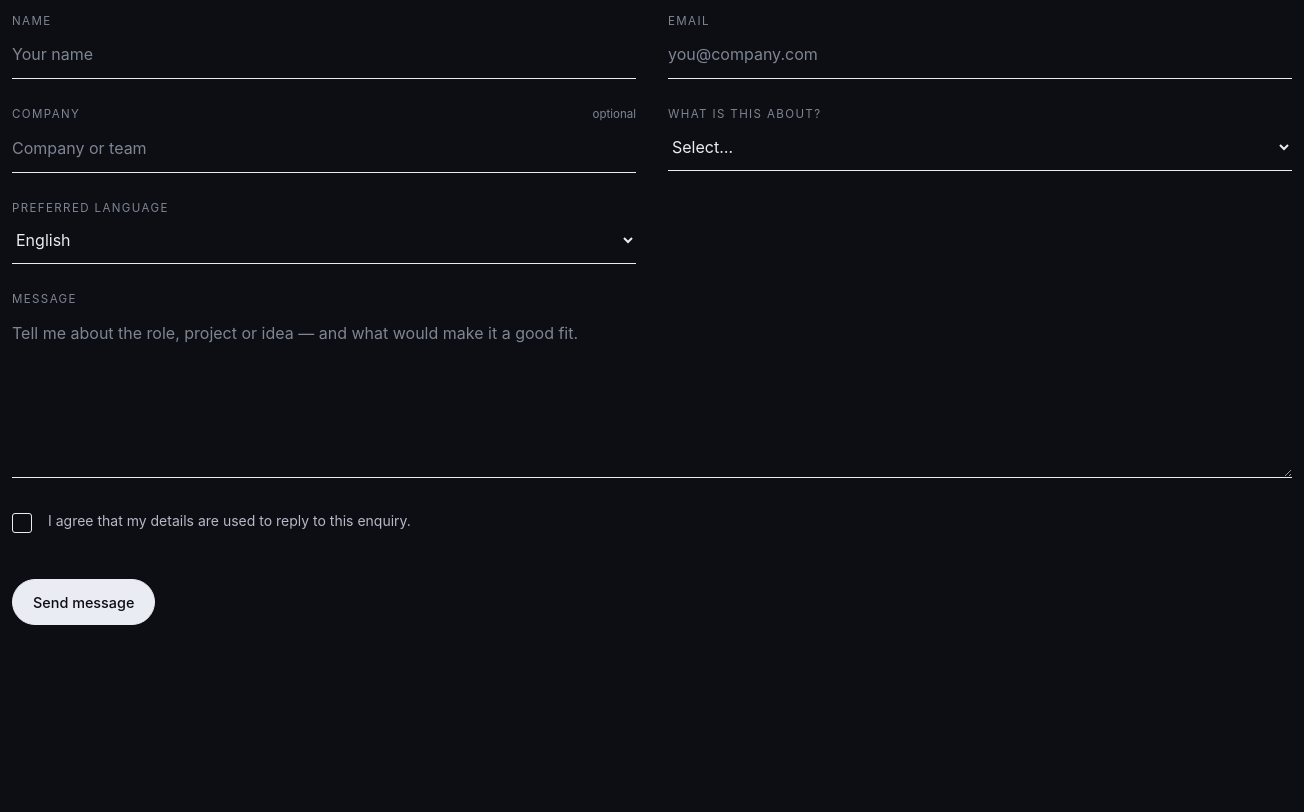
it: ContactForm › mentions the confirmation email only when one was sent
In the field labelled "Name": (324, 55) [12, 30, 636, 79], type "Ada Lovelace"
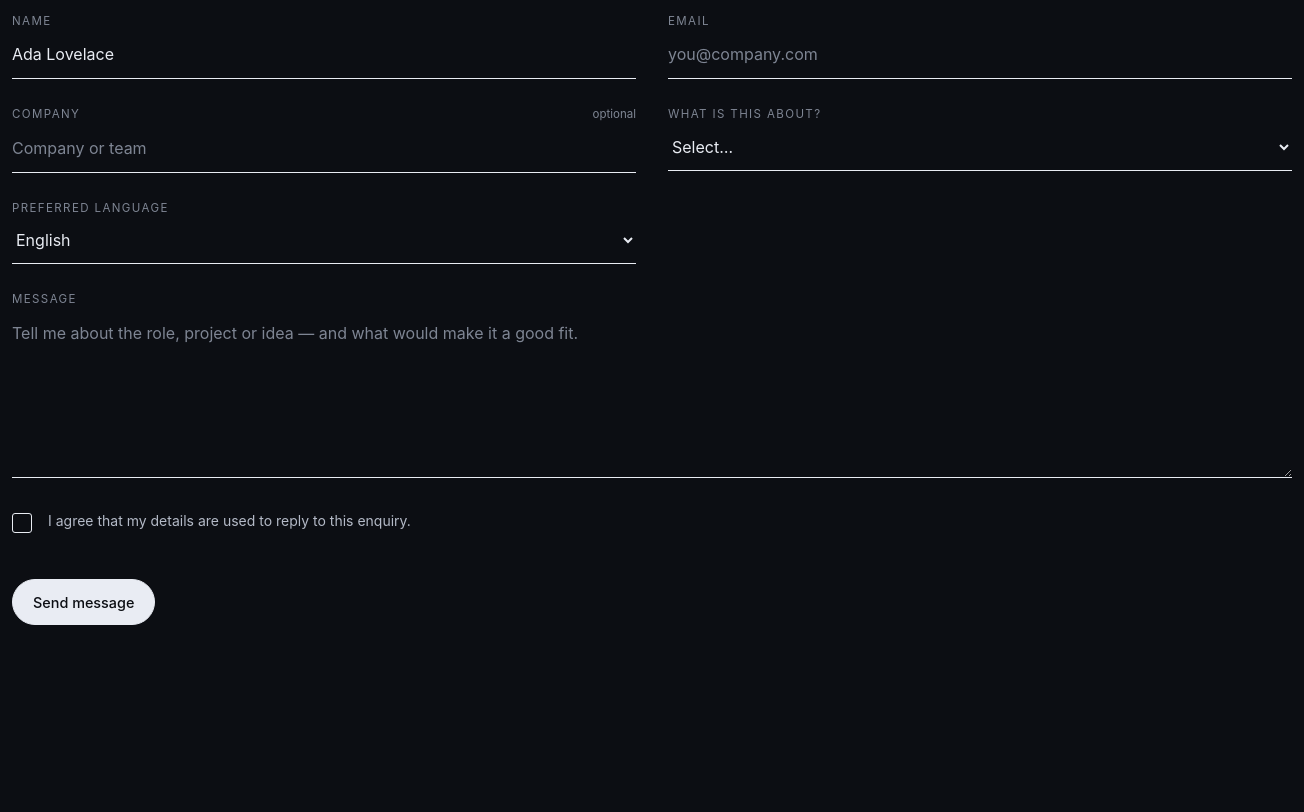
In the field labelled "Email": (980, 55) [668, 30, 1292, 79], type "ada@example.com"
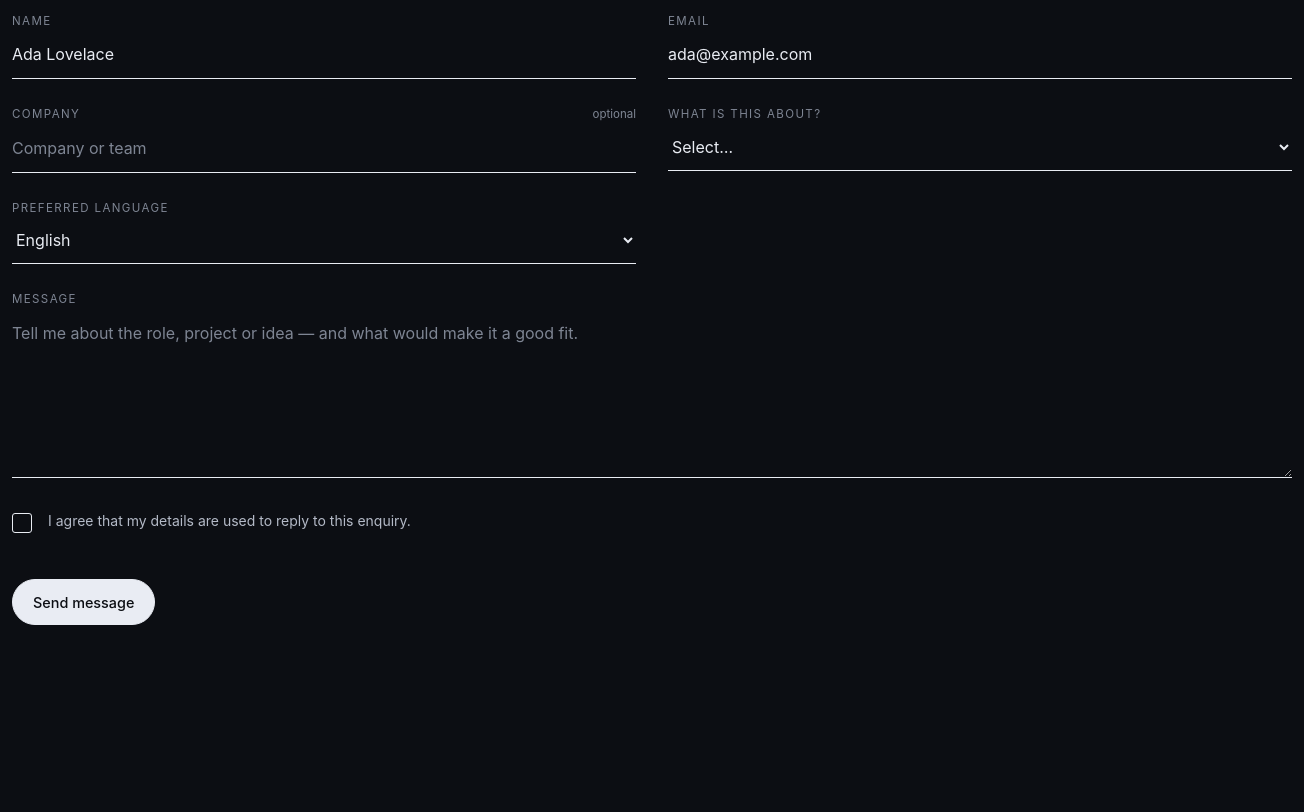
Select "Job opportunity" in the dropdown labelled "What is this about?": (980, 147) [668, 124, 1292, 171]
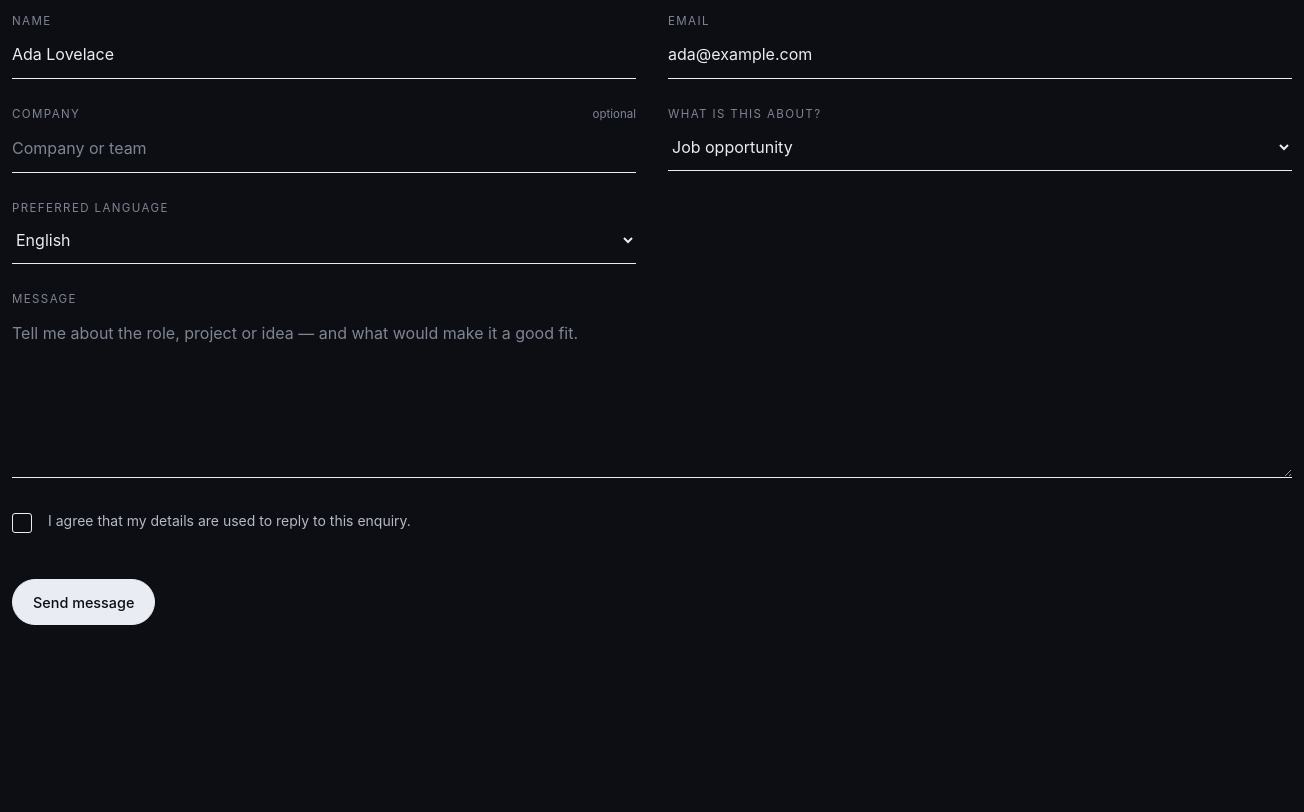
Replace the text in the text box labelled "Message" with "I would like to talk about a junior web development role in your team.": (652, 393) [12, 309, 1292, 478]
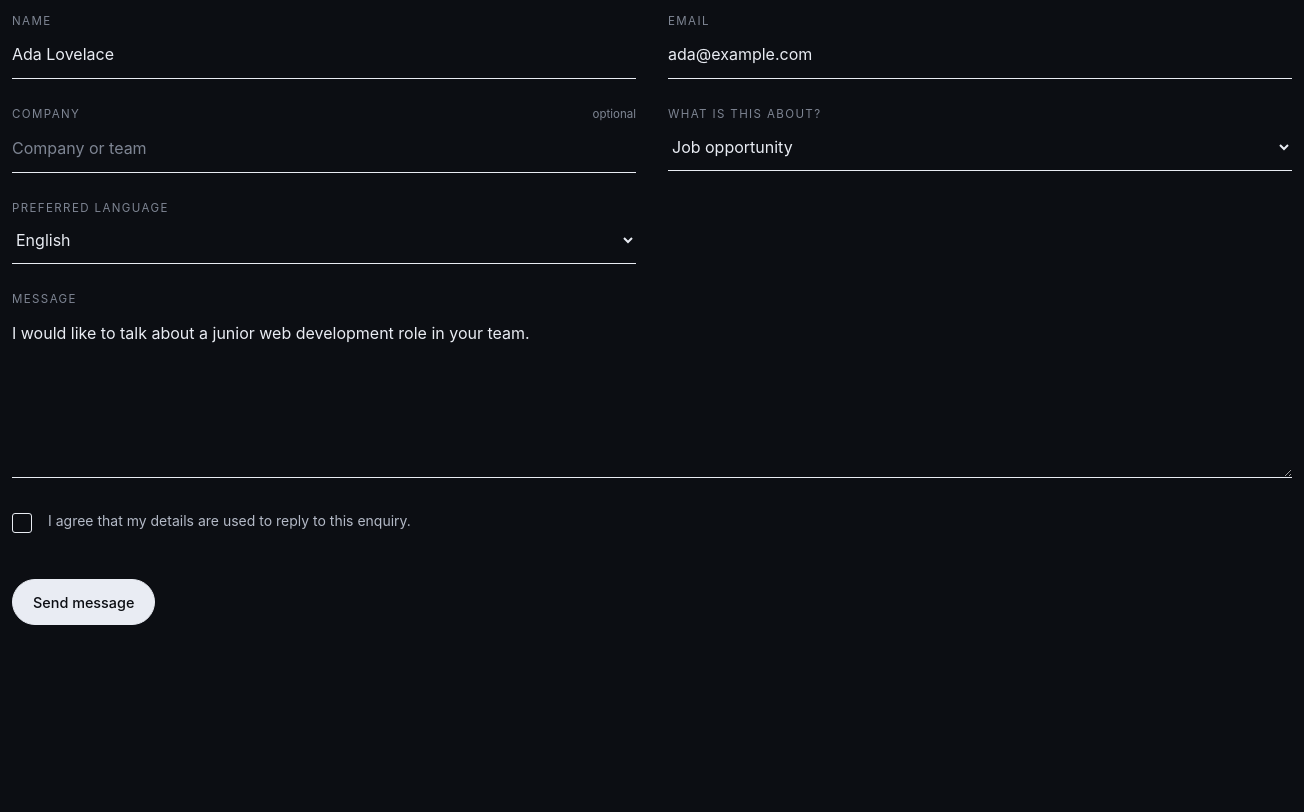
Click the checkbox labelled "I agree that my details are used to reply to this enquiry.": (211, 523) [12, 512, 411, 533]
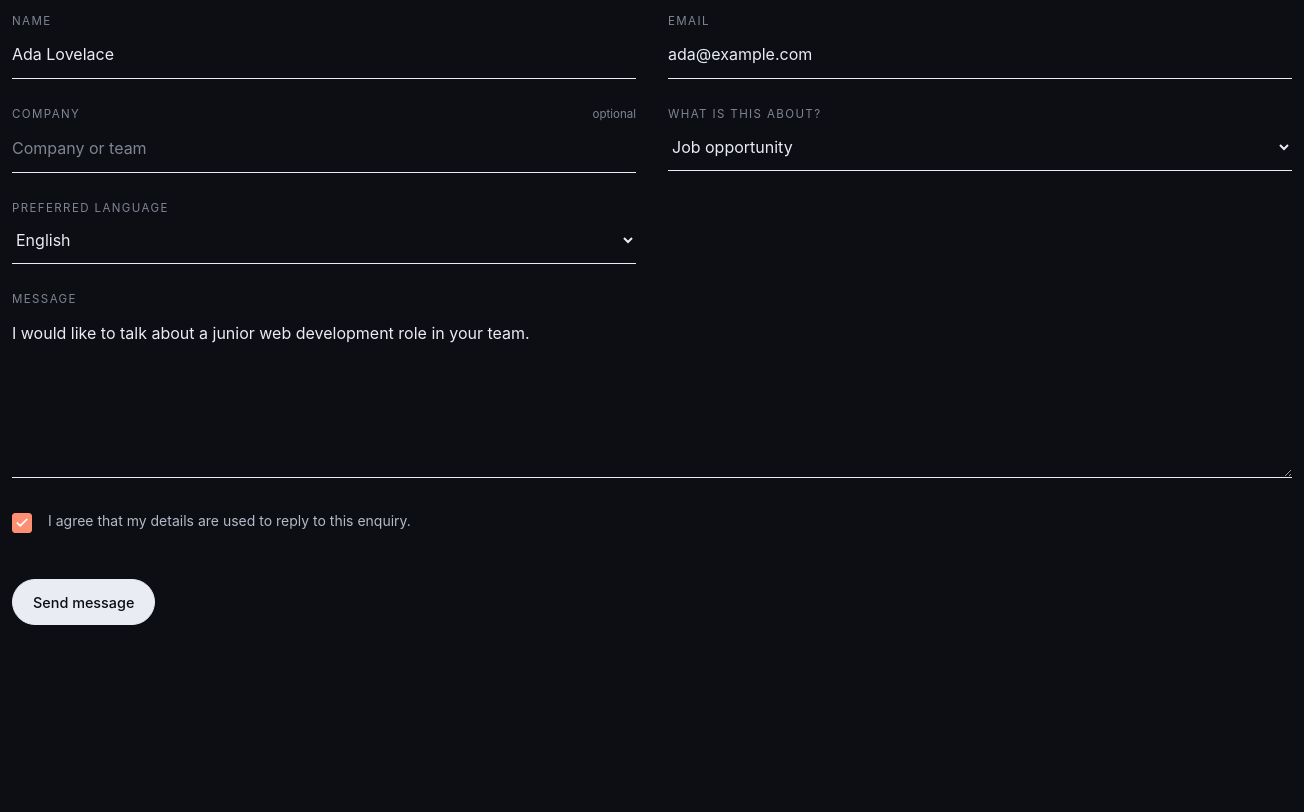
Submit the form
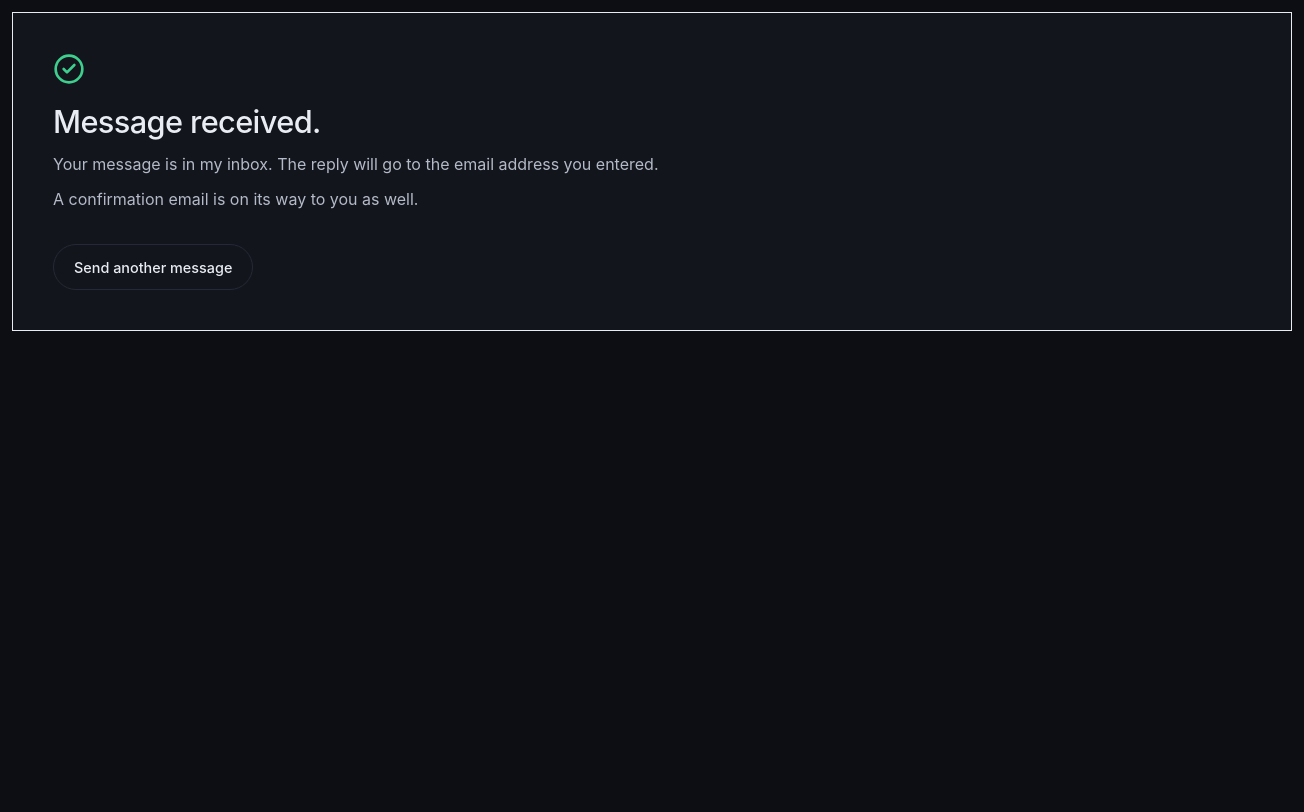
Result: the text "A confirmation email is on its way to you as well." is shown at [53, 189, 418, 209]
